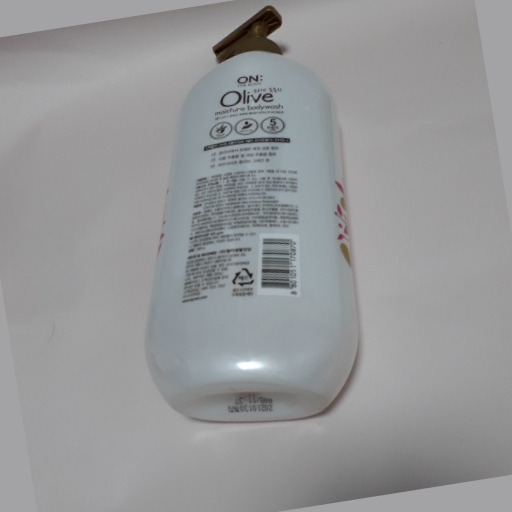Plastic_3: (149, 4, 363, 424)
